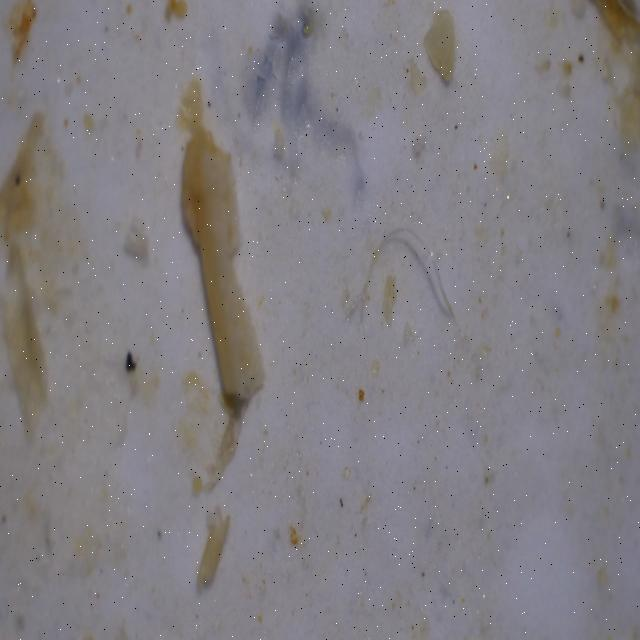fibers: (347, 226, 455, 319)
